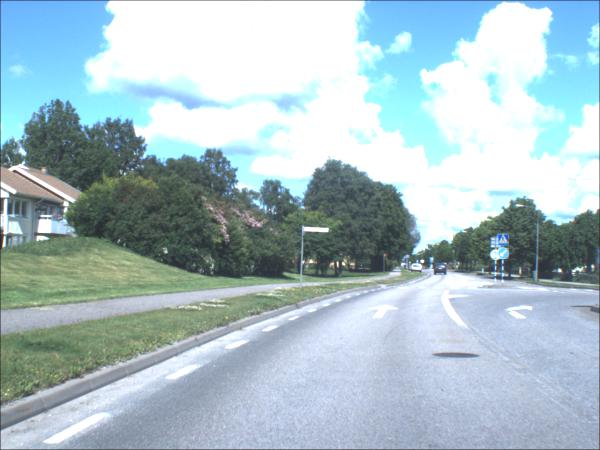PASS_RIGHT_SIDE: (498, 249, 510, 261), (430, 262, 433, 264)
PEDESTRIAN_CROSSING: (498, 236, 509, 248), (431, 258, 434, 262)
PRIORITY_ROAD: (420, 261, 425, 265)
